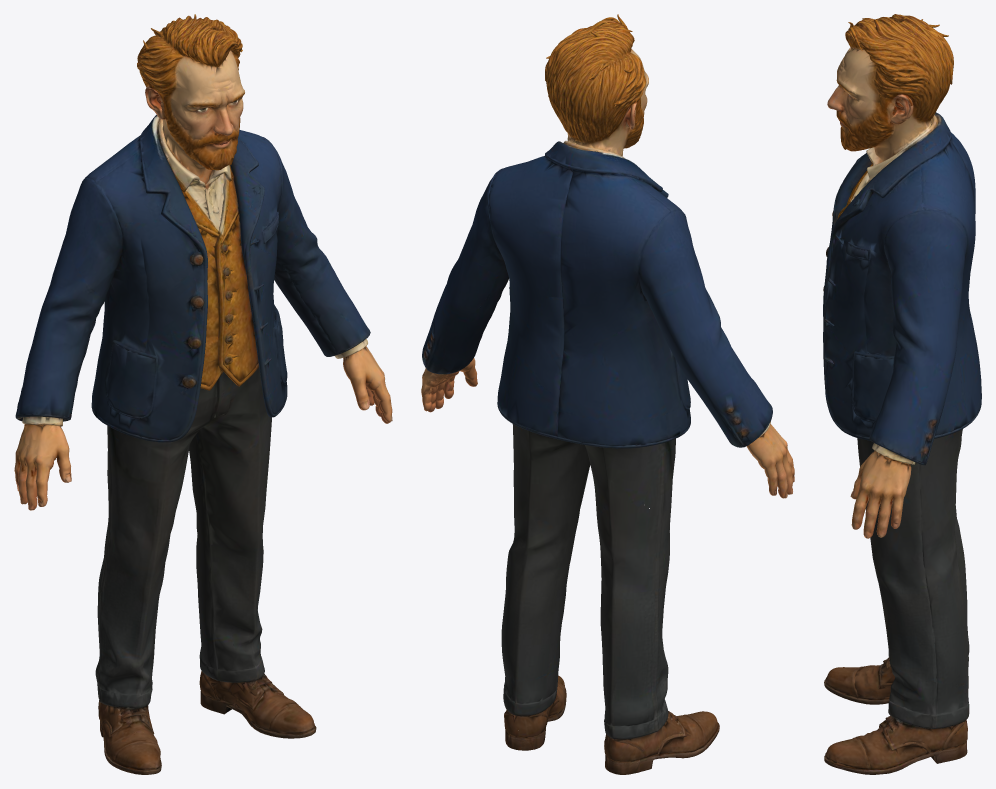
Rendered from van-gogh.glb.
The picture shows the model from 3 angles, left to right: view 1: azimuth 30°, elevation 25°; view 2: azimuth 150°, elevation 25°; view 3: azimuth 270°, elevation 25°; orthographic projection.
Visible parts, largest first — view 1: tripo_node_3db55f75-db2e-4476-aec9-392c52aded43; view 2: tripo_node_3db55f75-db2e-4476-aec9-392c52aded43; view 3: tripo_node_3db55f75-db2e-4476-aec9-392c52aded43.
Part boxes in pixels (box(x1,y1,x2,y2)): tripo_node_3db55f75-db2e-4476-aec9-392c52aded43: box(14, 14, 392, 774); tripo_node_3db55f75-db2e-4476-aec9-392c52aded43: box(421, 14, 794, 774); tripo_node_3db55f75-db2e-4476-aec9-392c52aded43: box(823, 14, 981, 774).
Bounding box in the file's own units: 0.5228 × 0.9816 × 0.1978.
1 material, 1 textured.
